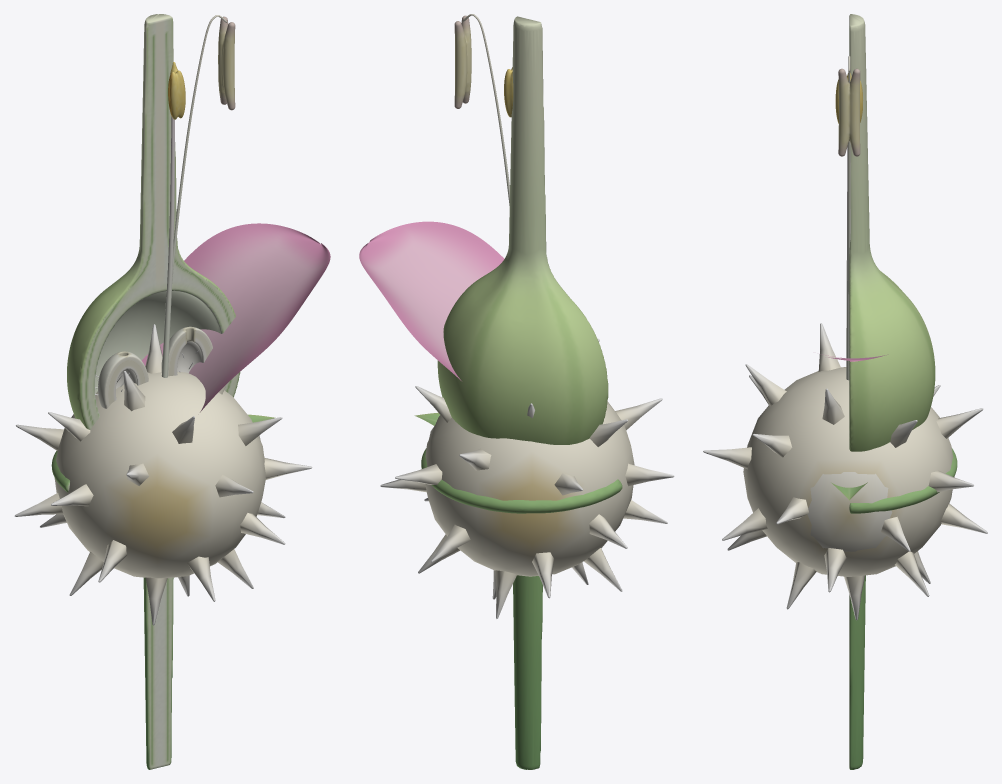
File: flower.glb
3 renders of one model, left to right at view 1: azimuth 30°, elevation 25°; view 2: azimuth 150°, elevation 25°; view 3: azimuth 270°, elevation 25°, orthographic.
Parts seen in each view (by area): view 1: pollenSpiky, body, petal, ovules, stamenWind, stamenInsect; view 2: body, pollenSpiky, petal, stamenWind; view 3: pollenSpiky, body, pollenSmooth, stamenWind, stamenInsect.
Boxes of the visible parts, <box> form: pollenSpiky: <box>14,324,312,625</box>; body: <box>51,14,240,769</box>; petal: <box>142,223,330,412</box>; ovules: <box>98,326,212,408</box>; stamenWind: <box>172,15,235,283</box>; stamenInsect: <box>161,62,185,377</box>; body: <box>421,16,622,769</box>; pollenSpiky: <box>380,339,674,618</box>; petal: <box>359,221,504,380</box>; stamenWind: <box>454,14,509,205</box>; pollenSpiky: <box>703,323,987,620</box>; body: <box>849,14,957,769</box>; pollenSmooth: <box>807,472,892,551</box>; stamenWind: <box>838,56,860,294</box>; stamenInsect: <box>835,73,862,380</box>.
Bounding box in the file's own units: 3.13 × 7.75 × 2.69.
